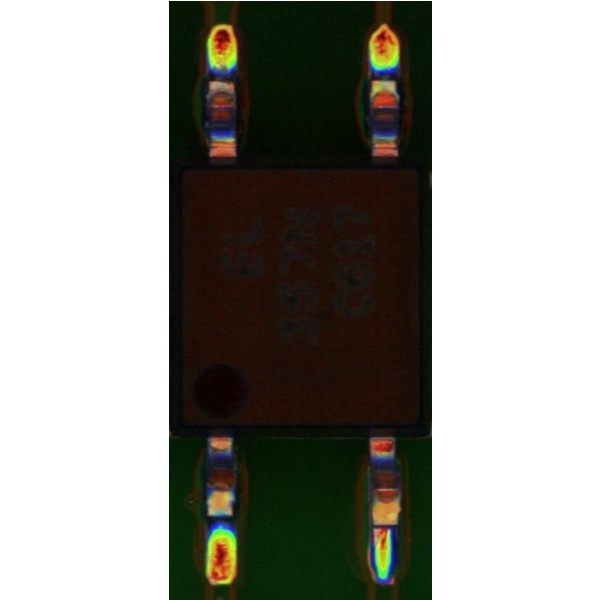Bad_podu: (375, 514, 391, 541)
